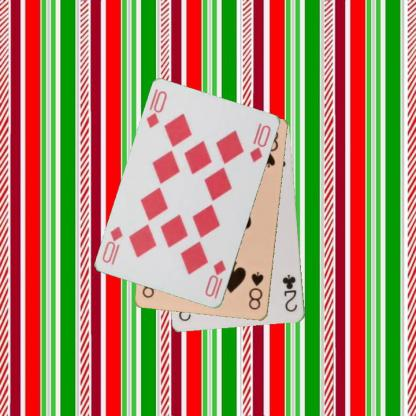10d: (202, 258, 228, 300), (144, 88, 169, 130)
2c: (280, 272, 299, 313)
8s: (246, 270, 265, 312)
